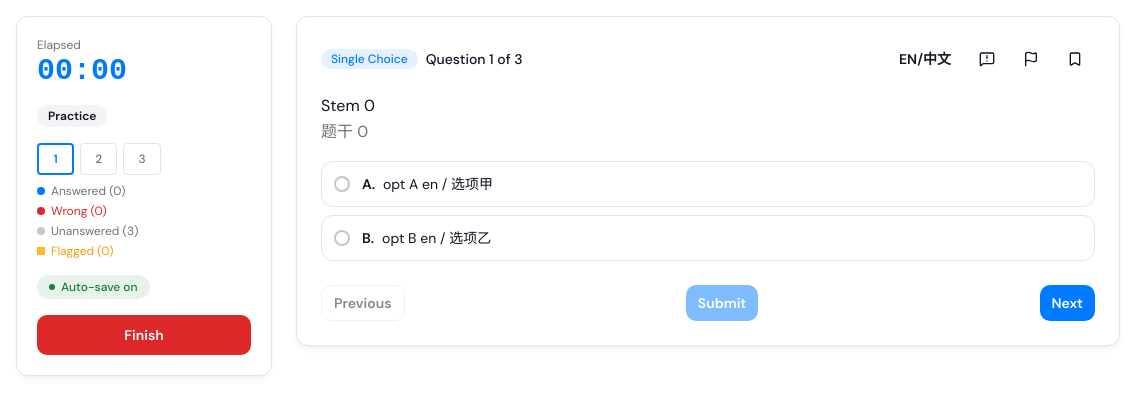
Test: <PaperPlayer> paper layout (FR-PAPER-05, v1.6) › bookmark toggle PUTs the question state
Expected: the text "Question 1 of 3" is shown, x1=426 y1=49 x2=522 y2=69
Click the button named "Bookmark" at (1075, 59), box x1=1055 y1=41 x2=1095 y2=77
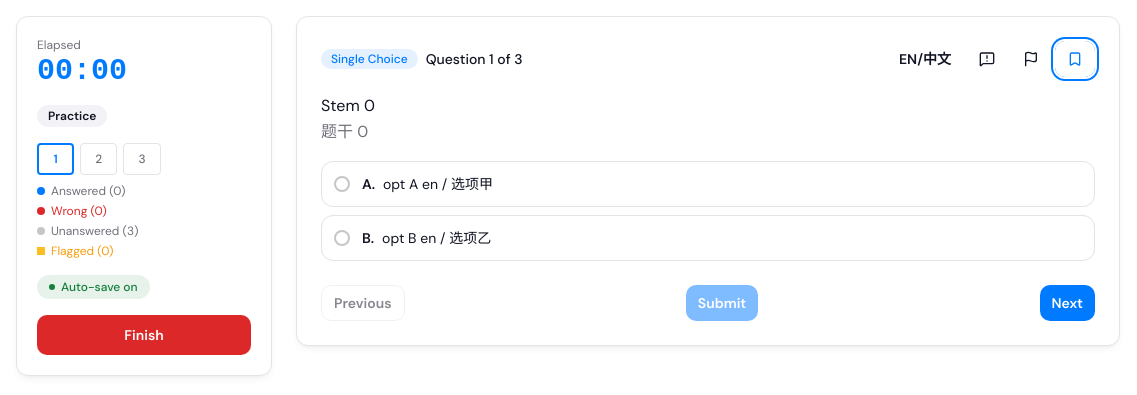
Now the button named "Bookmarked" is shown, box x1=1055 y1=41 x2=1095 y2=77
